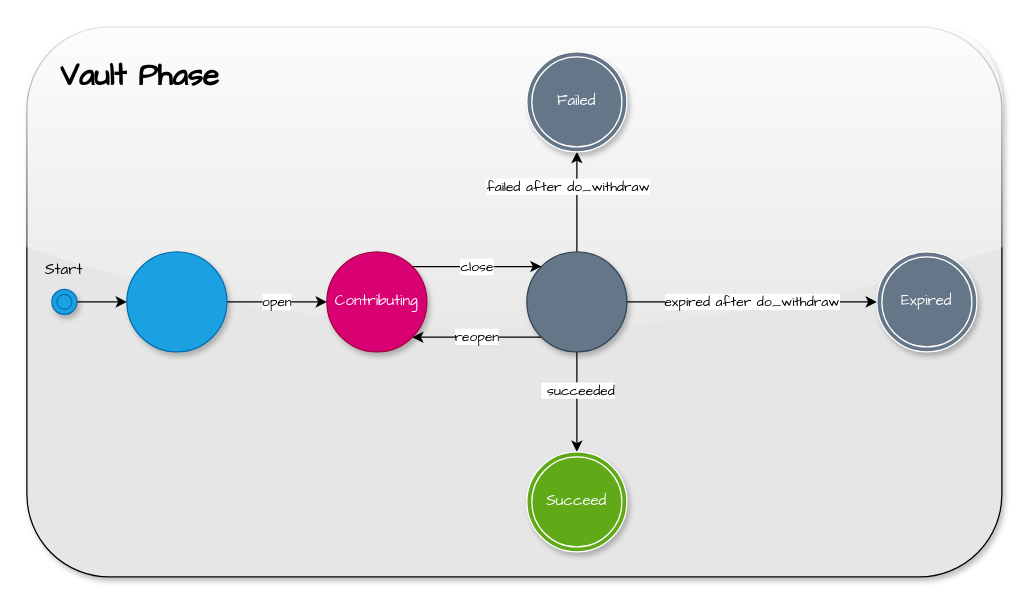
Some shapes in this 1031 by 608 pixel diagram are drawn without their labels. Each missing label, with the centre of its shape:
Closed: (x=577, y=303)
Pending: (x=177, y=303)
